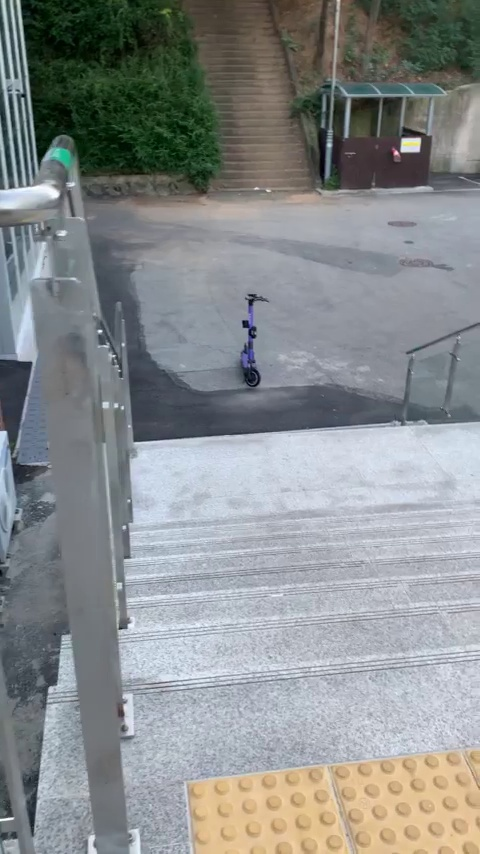beam: (225, 286, 280, 402)
